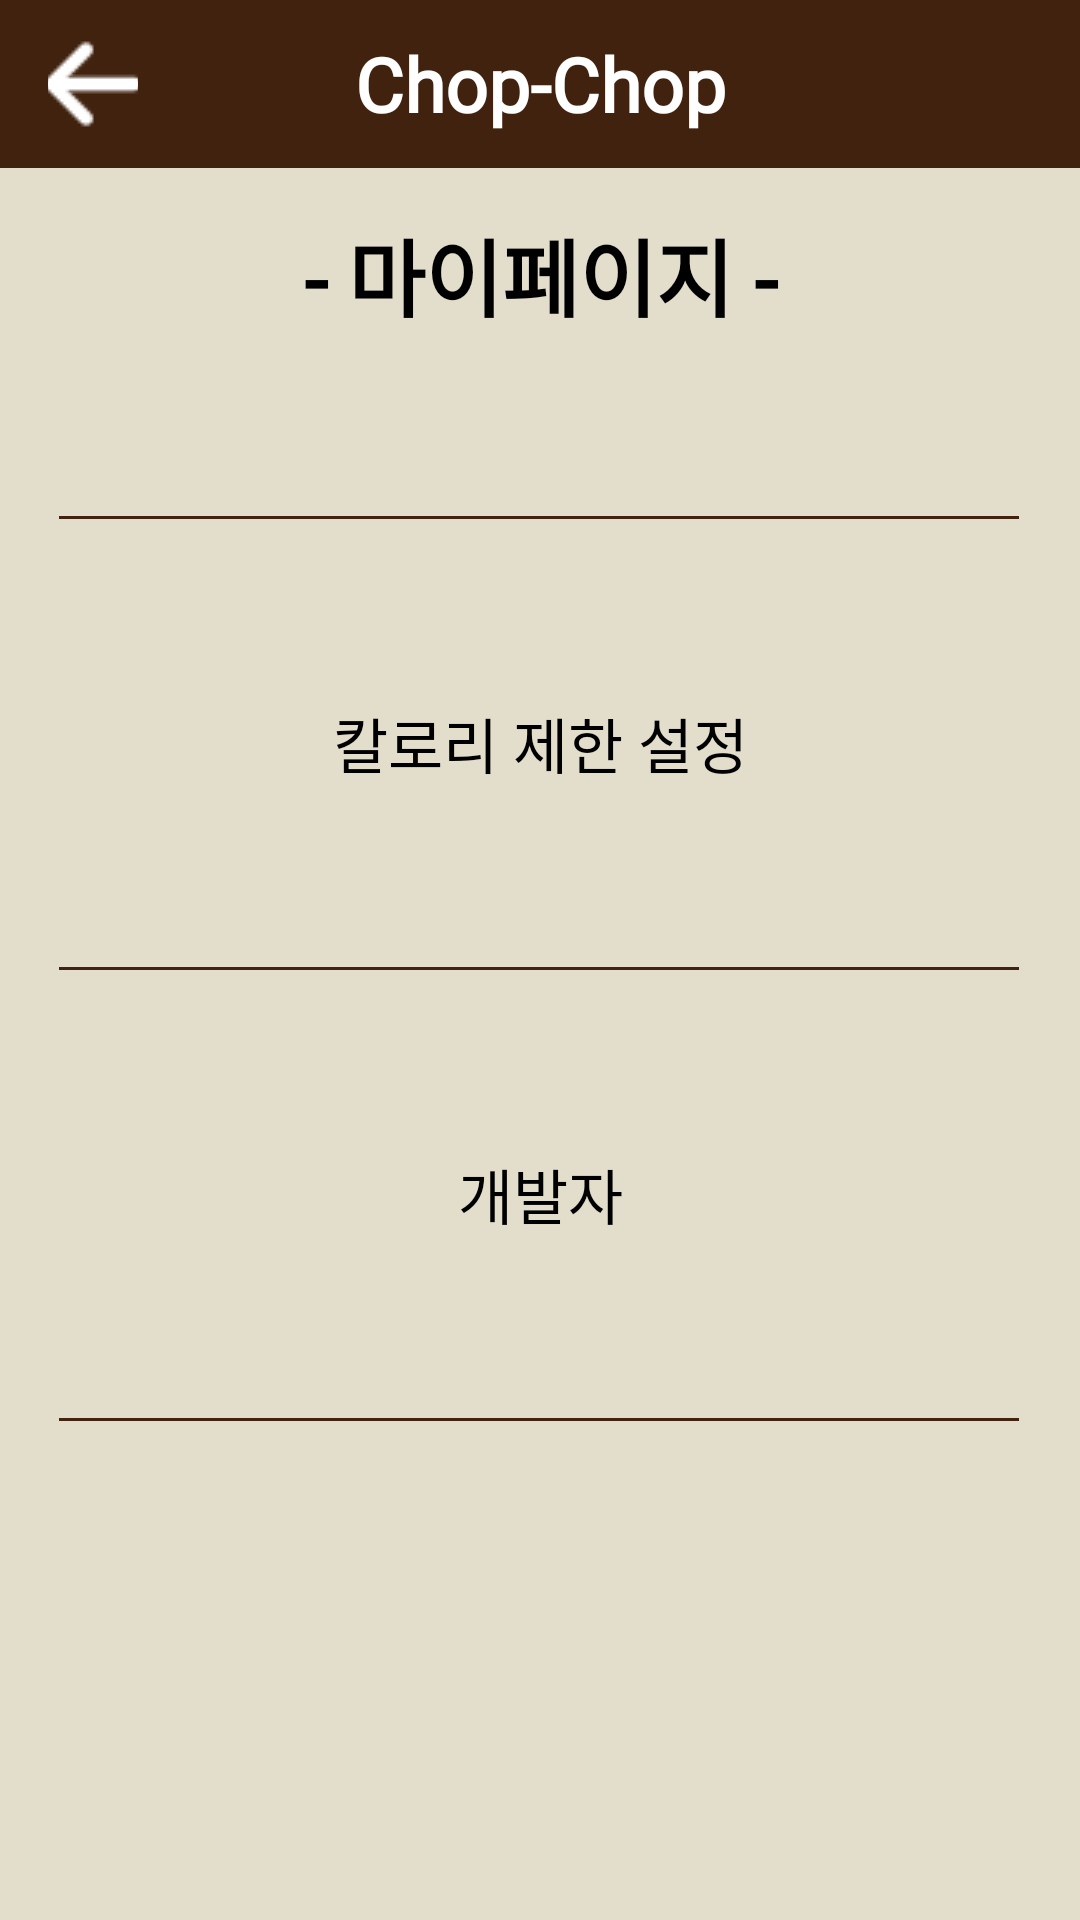

Locate icon controls on the screen. Image size 1080 × 1920, boxes as region(x1, y1, x2, y2).
back: region(48, 41, 138, 127)
